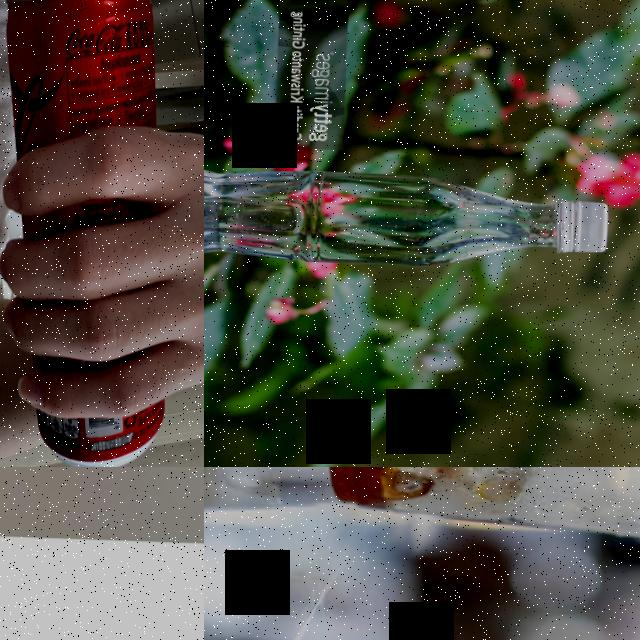bottle: (204, 159, 613, 275)
can: (0, 0, 182, 467)
cup: (321, 467, 640, 561)
